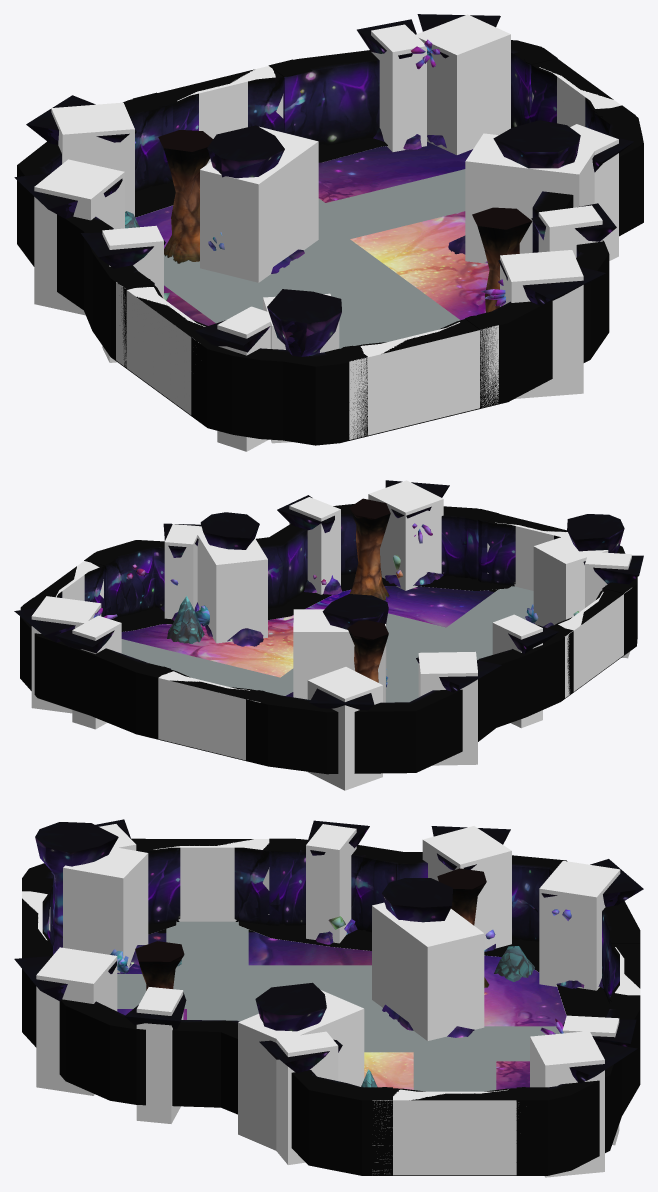
Rendered from Dungeon_101_Room_003.fbx.
3 views of the same model, one above another, from view 1: azimuth 30°, elevation 25°; view 2: azimuth 150°, elevation 25°; view 3: azimuth 270°, elevation 25° (orthographic). The views are drawn at different scales.
Parts seen in each view (by area): view 1: Dun_101_Room_003_wall, DoorWay_NavMask (1) (×4), Dun_101_Room_003_Object02, Quad_Nav_SP, Dun_101_Room_003_ground, Cube_11, Dun_101_Door_002 (×4), Cube_09, Cube_12, Dungeon_011_Object_010 (×2), Cube_10, Cube_02 (+11 smaller); view 2: Dun_101_Room_003_wall, Dun_101_Room_003_Object02, DoorWay_NavMask (1) (×4), Dun_101_Room_003_ground, Dun_101_Door_002 (×4), Cube_12, Cube_10, Dungeon_011_Object_010 (×2), Quad_Nav_SP, Cube_01, Cube_11, Cube_08 (+12 smaller); view 3: Dun_101_Room_003_wall, Dun_101_Room_003_Object02, DoorWay_NavMask (1) (×2), Cube_11, Dun_101_Door_002 (×4), Dun_101_Room_003_ground, Cube_01, Quad_Nav_SP, Cube_12, Cube_08, Cube_10, Cube_02 (+13 smaller).
Boxes of the visible parts, left/top/right/bottom form: Dun_101_Room_003_wall: left=17, top=40, right=643, bottom=445; DoorWay_NavMask (1) (×4): left=116, top=66, right=621, bottom=439; Dun_101_Room_003_Object02: left=14, top=14, right=633, bottom=356; Quad_Nav_SP: left=164, top=225, right=460, bottom=343; Dun_101_Room_003_ground: left=135, top=142, right=489, bottom=325; Cube_11: left=200, top=126, right=318, bottom=282; Dun_101_Door_002 (×4): left=113, top=48, right=635, bottom=436; Cube_09: left=416, top=14, right=510, bottom=154; Cube_12: left=465, top=133, right=596, bottom=263; Dungeon_011_Object_010 (×2): left=158, top=130, right=532, bottom=312; Cube_10: left=500, top=250, right=583, bottom=398; Cube_02: left=34, top=159, right=124, bottom=315; Dun_101_Room_003_wall: left=20, top=504, right=637, bottom=774; Dun_101_Room_003_Object02: left=14, top=480, right=643, bottom=710; DoorWay_NavMask (1) (×4): left=58, top=524, right=631, bottom=760; Dun_101_Room_003_ground: left=121, top=586, right=493, bottom=677; Dun_101_Door_002 (×4): left=23, top=509, right=634, bottom=760; Cube_12: left=193, top=526, right=267, bottom=643; Cube_10: left=368, top=480, right=443, bottom=590; Dungeon_011_Object_010 (×2): left=347, top=498, right=390, bottom=682; Quad_Nav_SP: left=263, top=613, right=491, bottom=702; Cube_01: left=533, top=535, right=608, bottom=626; Cube_11: left=293, top=609, right=386, bottom=702; Cube_08: left=307, top=667, right=382, bottom=790; Dun_101_Room_003_wall: left=22, top=839, right=640, bottom=1175; Dun_101_Room_003_Object02: left=14, top=819, right=643, bottom=1083; DoorWay_NavMask (1) (×2): left=171, top=839, right=518, bottom=1175; Cube_11: left=372, top=902, right=484, bottom=1040; Dun_101_Door_002 (×4): left=22, top=838, right=640, bottom=1175; Dun_101_Room_003_ground: left=117, top=932, right=566, bottom=1089; Cube_01: left=63, top=847, right=148, bottom=973; Quad_Nav_SP: left=187, top=965, right=475, bottom=1052; Cube_12: left=238, top=990, right=364, bottom=1150; Cube_08: left=539, top=860, right=620, bottom=990; Cube_10: left=36, top=947, right=117, bottom=1095; Cube_02: left=422, top=826, right=511, bottom=949.
Size of what is drawn, in the model's own units: 15.21 by 3.48 by 15.28.
